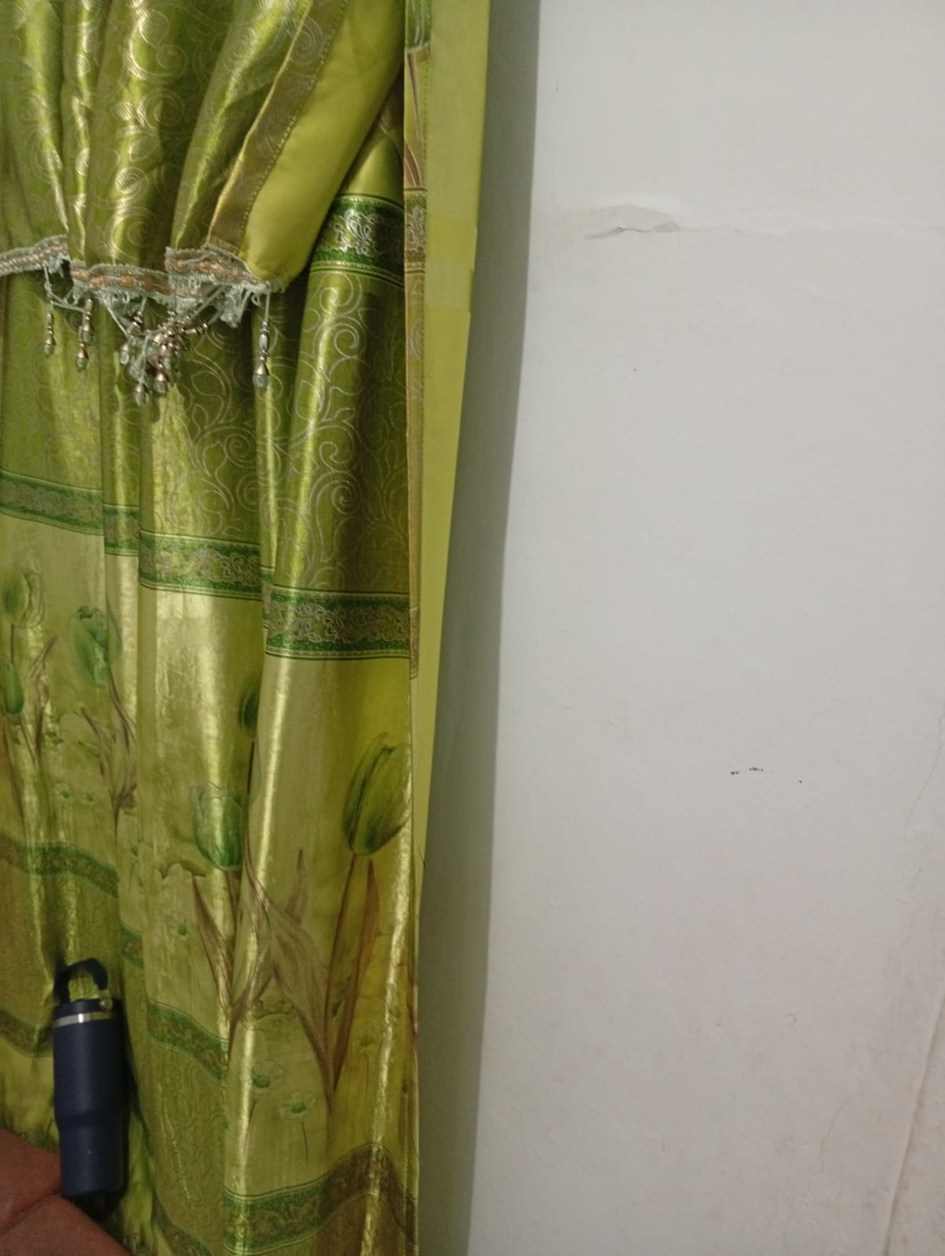Tupperware: (15, 945, 173, 1228)
